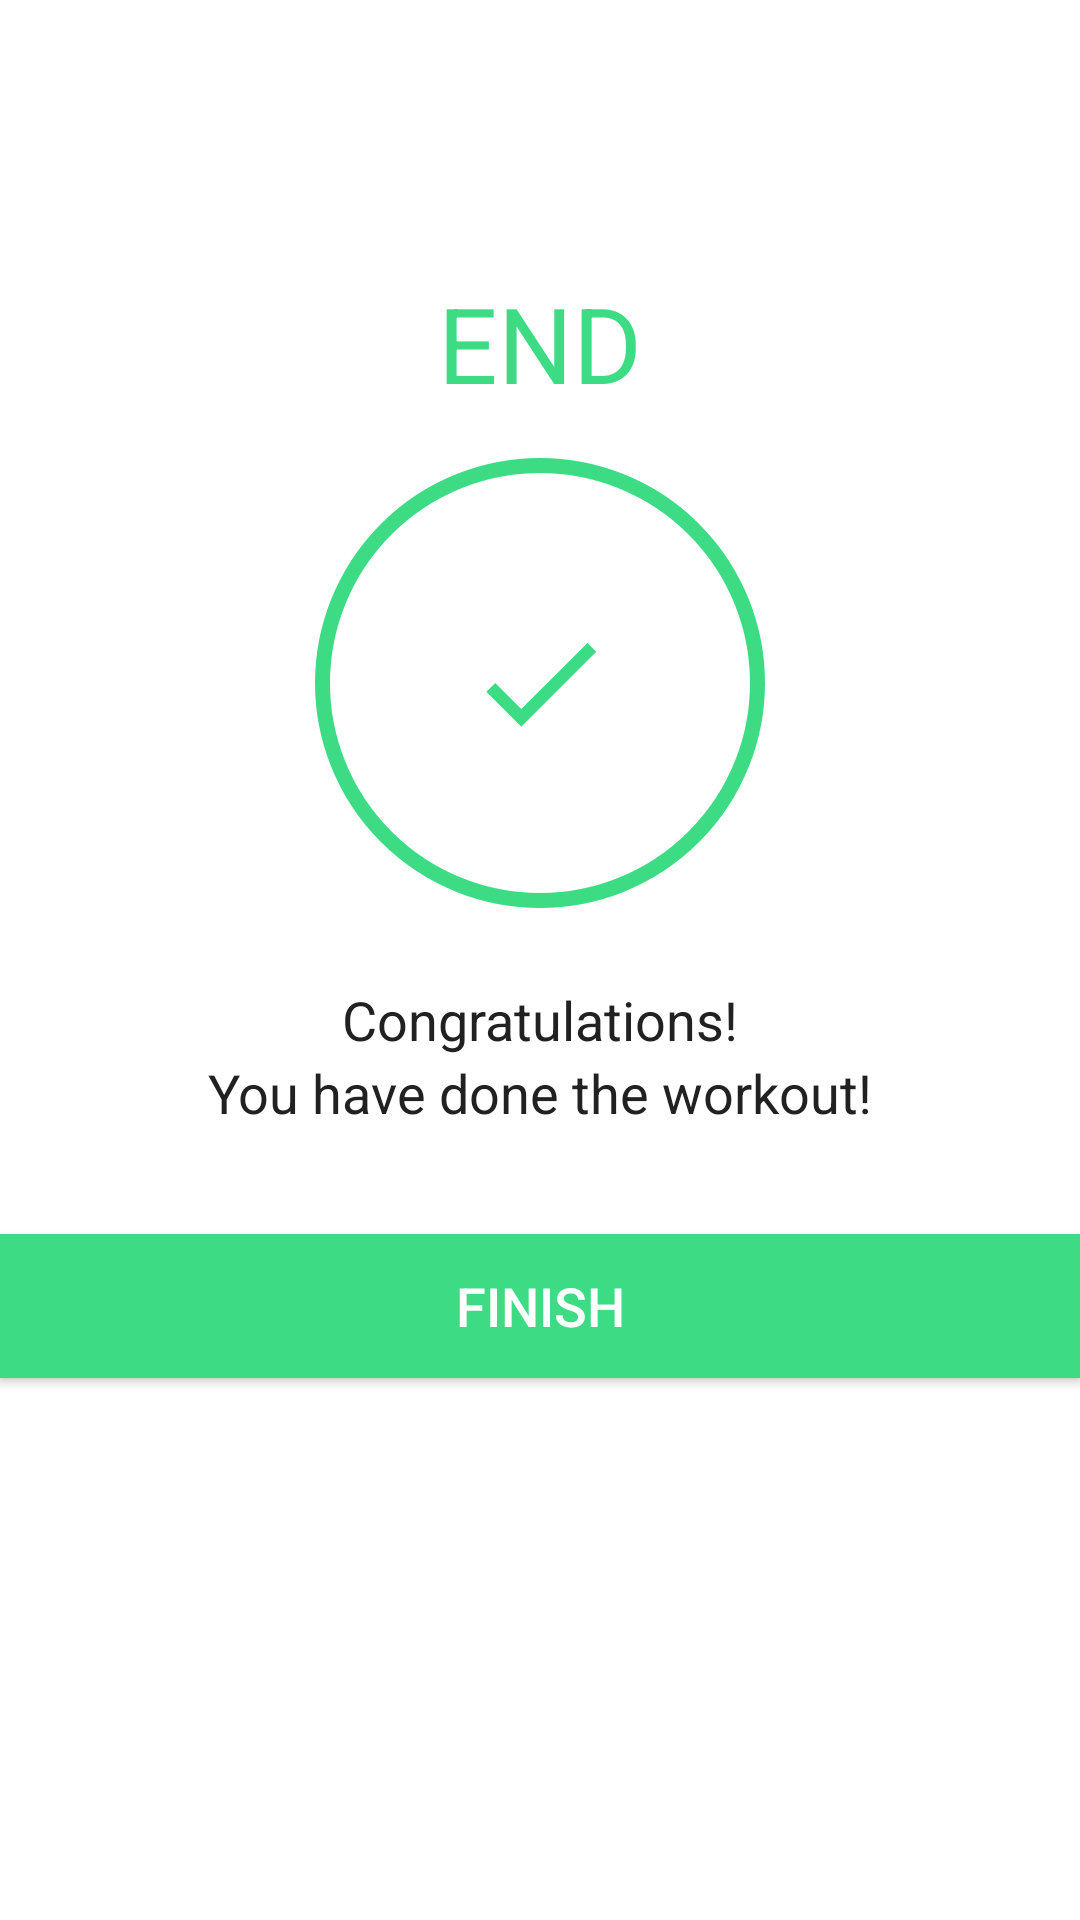

Icon click points for this 1080w x 1920h phone screenshot, format (x=x, y=y):
ceck mark: (x=541, y=685)
